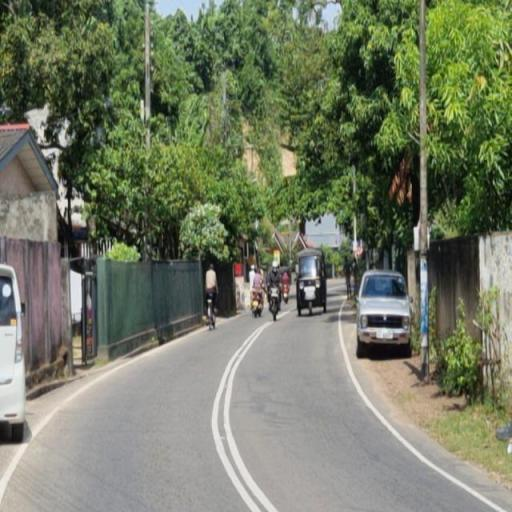double_white_line: (211, 321, 275, 510)
